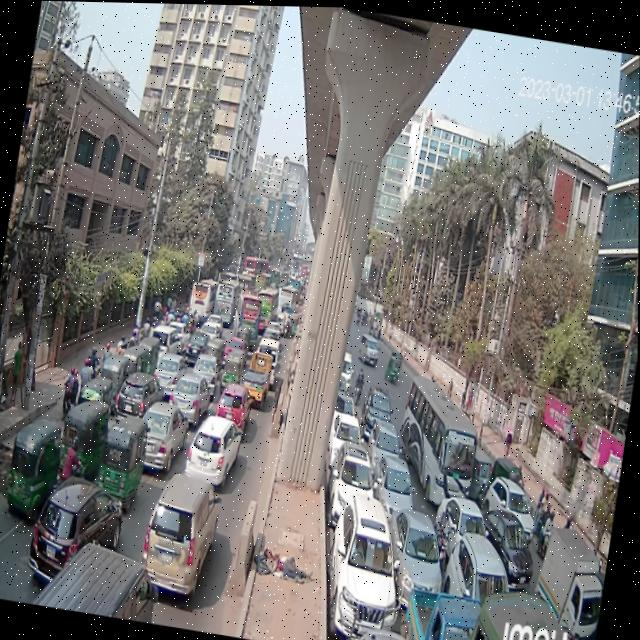cng: (0, 423, 66, 530), (95, 414, 153, 512), (53, 400, 113, 490), (118, 342, 154, 403), (220, 346, 251, 400), (384, 352, 405, 389)
